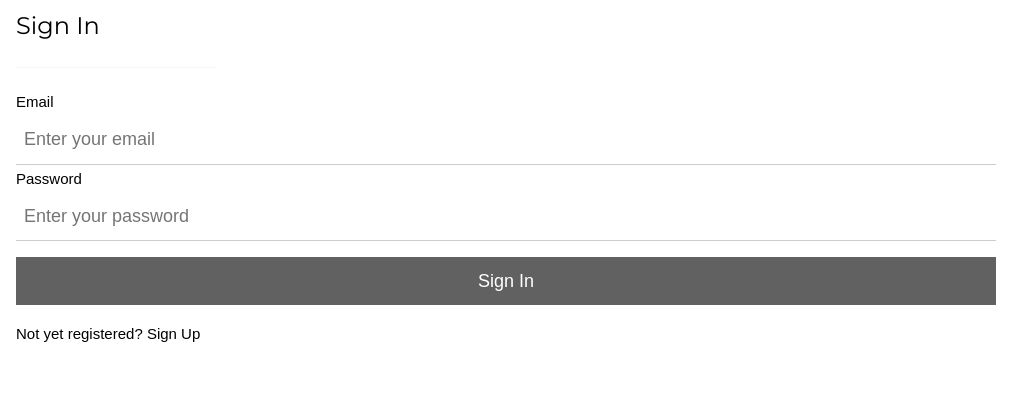
it: Signin › should show invalid credentials error when signin fails
The image size is (1013, 419).
Step 1. Type "wrong@example.com" into the field labelled "Email" → (506,140), box [16,115,996,165]
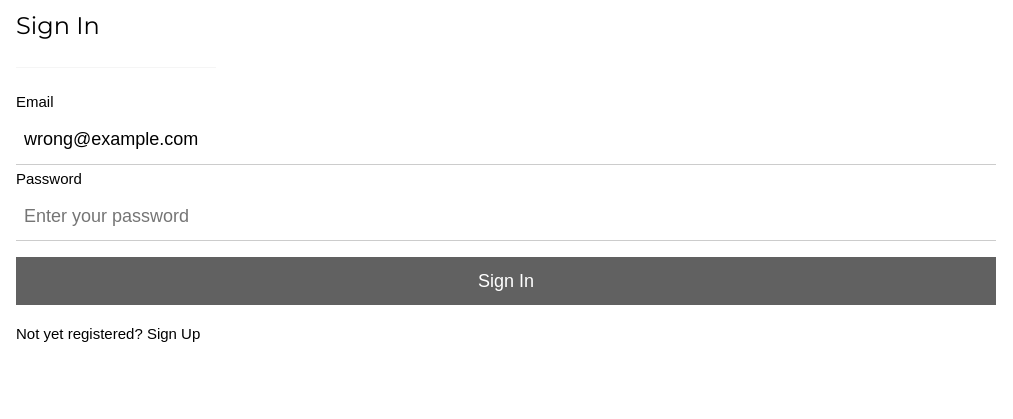
Step 2. Type "wrongpassword" into the password field labelled "Password" → (506,216), box [16,192,996,241]
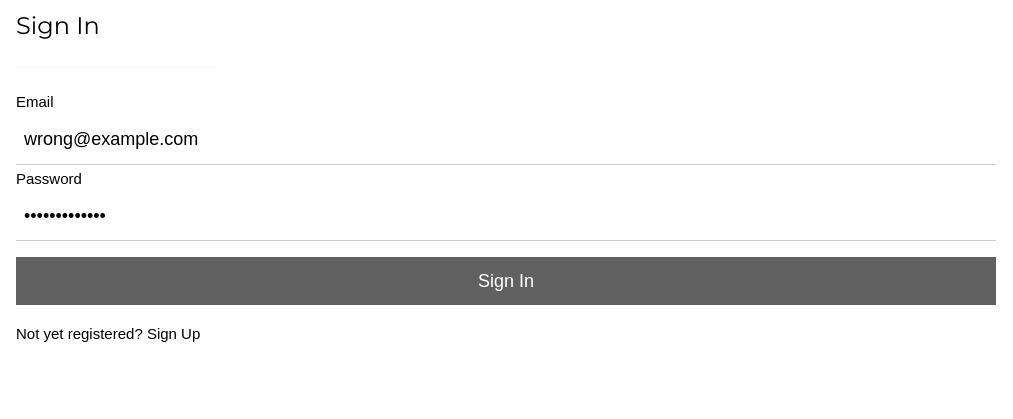
Step 3. Click the button "Sign In" → (506,281), box [16,257,996,305]
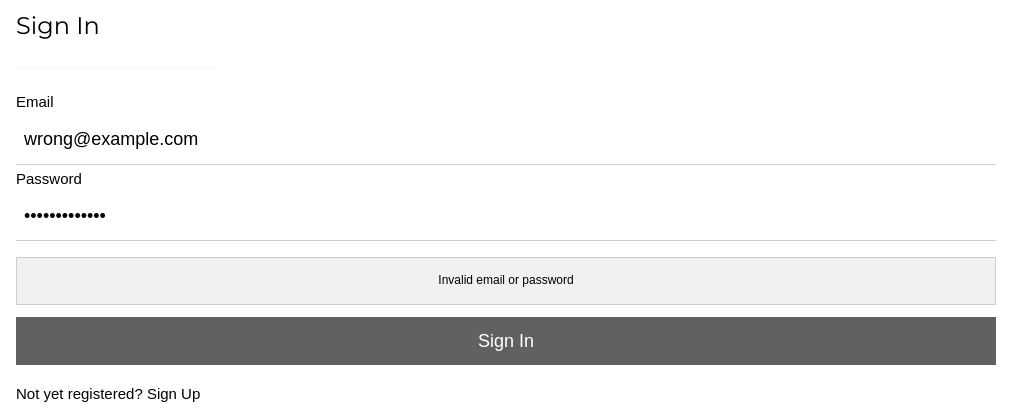
Check: the message reads "Invalid email or password", box [438,273,574,287]
